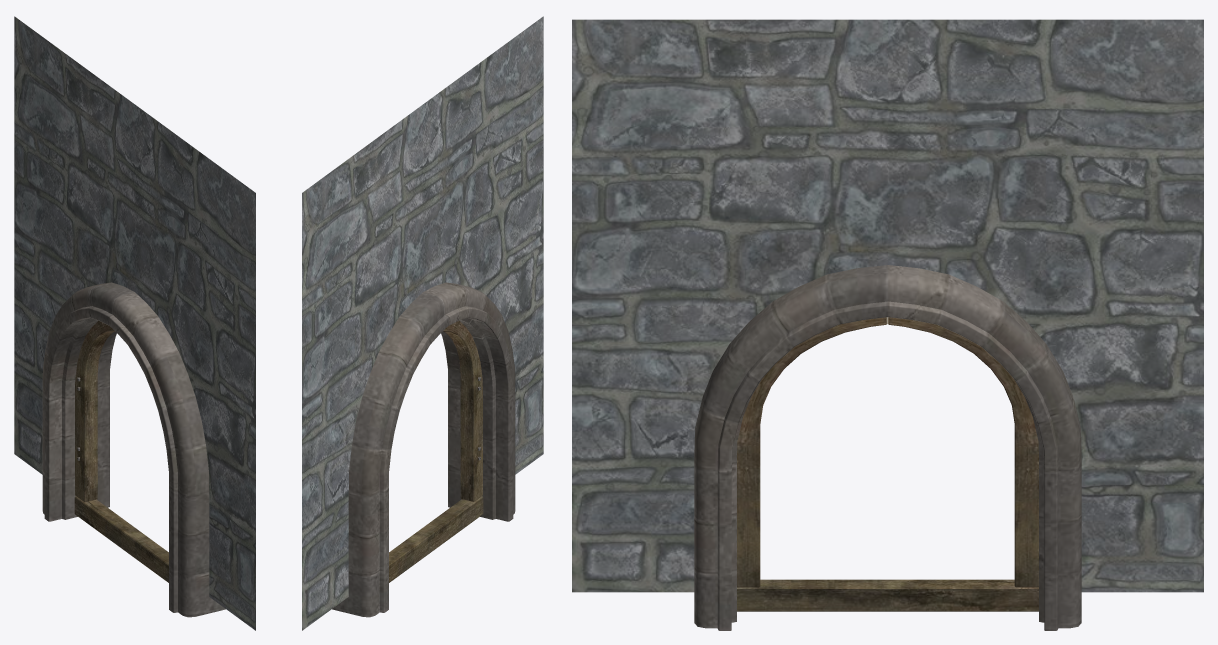
The model's file is SM_DoorWay.glb.
3 renders of one model, left to right at view 1: azimuth 30°, elevation 25°; view 2: azimuth 150°, elevation 25°; view 3: azimuth 270°, elevation 25°, orthographic. The views are drawn at different scales.
Visible parts, largest first — view 1: SM_DoorWay; view 2: SM_DoorWay; view 3: SM_DoorWay.
Part boxes in pixels (x1=…): SM_DoorWay: x1=14, y1=16, x2=255, y2=630; SM_DoorWay: x1=302, y1=16, x2=543, y2=630; SM_DoorWay: x1=572, y1=19, x2=1203, y2=630.
Bounding box in the file's own units: 0.8792 × 6.23 × 6.
Materials: 4 (4 with a texture image).
